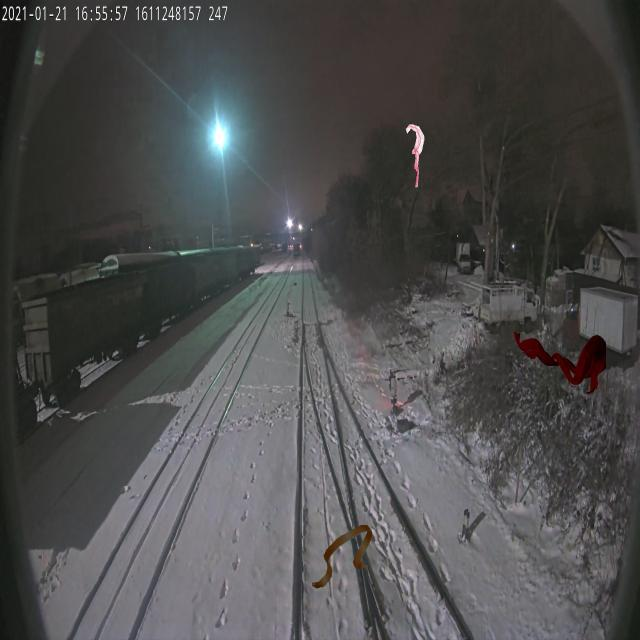balloon: (512, 330, 606, 394)
floating object: (312, 524, 373, 588), (406, 124, 424, 188)
